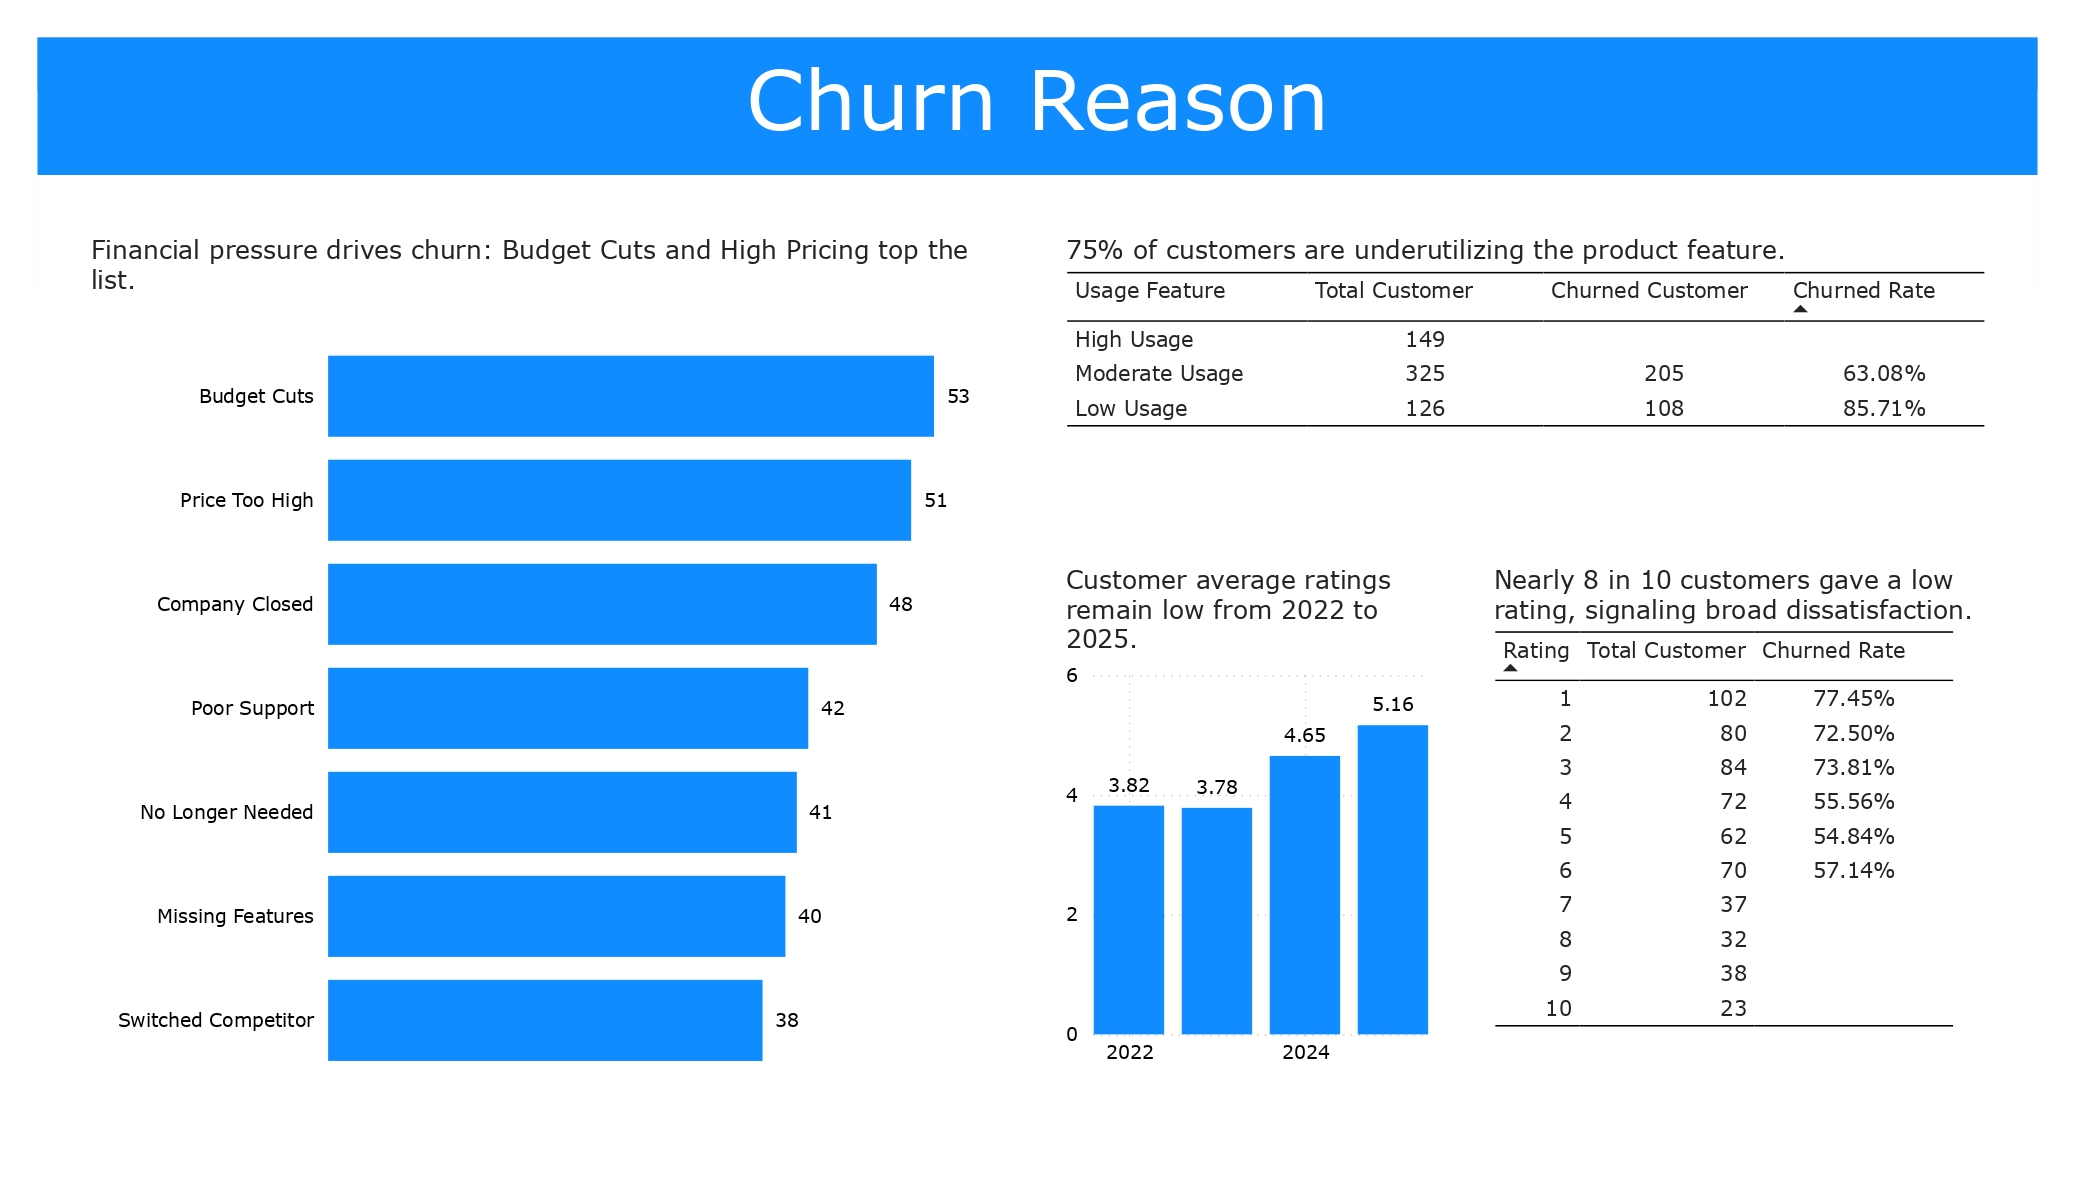

The dashboard page shown, as its layout file describes it:
{"tool":"powerbi","page":{"name":"Churned Reason","canvas":[1280,720],"ordinal":2},"visuals":[{"type":"clusteredBarChart","title":"Financial pressure drives churn: Budget Cuts and High Pricing top the list.","fields":{"Y":["subscriptions.Churned Customer"],"Category":["subscriptions.churn_reason"]},"box":[28.8,125.8,601.2,561.9],"z":0},{"type":"tableEx","title":"75% of customers are underutilizing the product feature.","fields":{"Values":["subscriptions.usage_feature","subscriptions.Total Customer","subscriptions.Churned Customer","subscriptions.churn rate"]},"box":[653.1,125.8,601.2,158.1],"z":1000},{"type":"textbox","box":[0,0,1279.6,88],"z":2000},{"type":"tableEx","title":"Nearly 8 in 10 customers gave a low rating, signaling broad dissatisfaction.","fields":{"Values":["subscriptions.nps_score","subscriptions.Total Customer","subscriptions.churn rate"]},"box":[926.5,336.9,327.7,330],"z":3000},{"type":"columnChart","title":"Customer average ratings remain low from 2022 to 2025.","fields":{"Category":["subscriptions.signup_date.Variation.Date Hierarchy.Year","subscriptions.signup_date.Variation.Date Hierarchy.Quarter","subscriptions.signup_date.Variation.Date Hierarchy.Month","subscriptions.signup_date.Variation.Date Hierarchy.Day"],"Y":["Avg(subscriptions.nps_score)"]},"box":[653.1,336.9,242.3,330],"z":4000}]}

Visuals, with their boxes on the page's 1280x720 design canvas (x1, y1, x2, y2). These are canvas units, not pixel positions in the 2075x1200 screenshot, which may show the page scaled, cropped or inside an application window:
"Financial pressure drives churn: Budget Cuts and High Pricing top the list." clusteredBarChart: (x1=29, y1=126, x2=630, y2=688)
"75% of customers are underutilizing the product feature." tableEx: (x1=653, y1=126, x2=1254, y2=284)
textbox: (x1=0, y1=0, x2=1280, y2=88)
"Nearly 8 in 10 customers gave a low rating, signaling broad dissatisfaction." tableEx: (x1=926, y1=337, x2=1254, y2=667)
"Customer average ratings remain low from 2022 to 2025." columnChart: (x1=653, y1=337, x2=895, y2=667)
